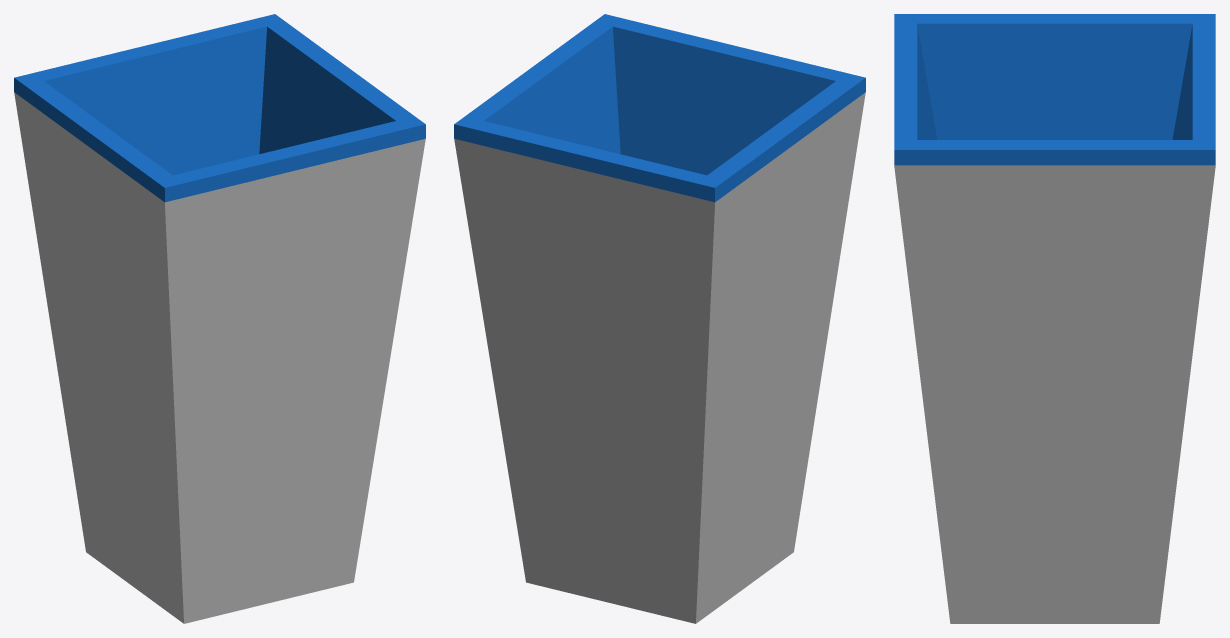
The model's file is space_flower_pot_12.fbx.
The picture shows the model from 3 angles, left to right: view 1: azimuth 30°, elevation 25°; view 2: azimuth 150°, elevation 25°; view 3: azimuth 270°, elevation 25°; orthographic projection. The views are drawn at different scales.
Visible parts, largest first — view 1: Cube_136; view 2: Cube_136; view 3: Cube_136.
Part boxes in pixels (x1=…): Cube_136: x1=14, y1=14, x2=425, y2=623; Cube_136: x1=454, y1=14, x2=865, y2=623; Cube_136: x1=894, y1=14, x2=1215, y2=623.
Bounding box in the file's own units: 19.11 × 32.63 × 19.11.
